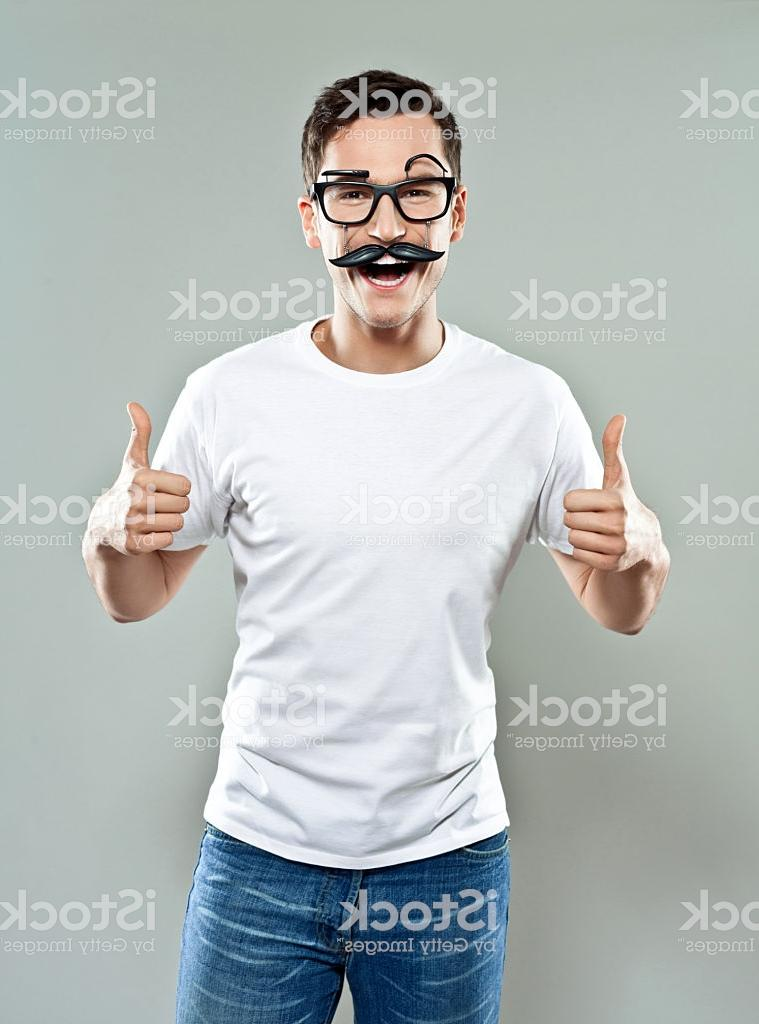thumbsup: (561, 413, 646, 574), (118, 401, 194, 559)
